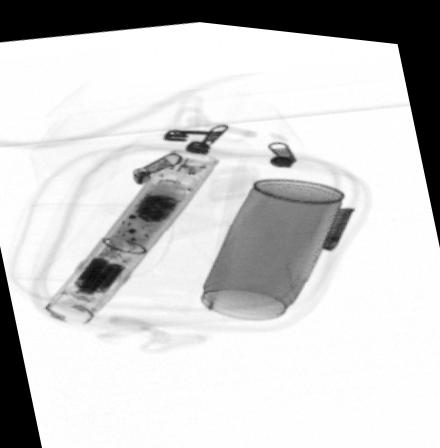Baton: (42, 143, 220, 324)
